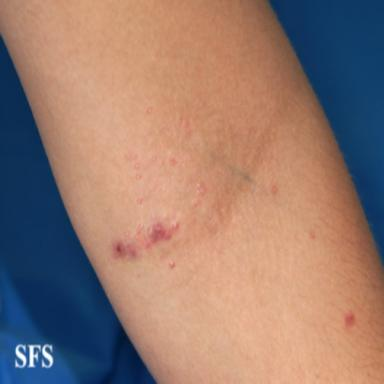Molluscum-Contagiosum: (196, 182, 203, 194), (271, 185, 277, 195), (173, 222, 179, 232), (169, 261, 175, 269), (136, 174, 141, 180), (151, 156, 156, 162), (137, 199, 143, 204), (125, 231, 130, 237), (147, 107, 151, 114), (179, 117, 183, 124), (135, 162, 139, 169), (139, 223, 143, 229)
